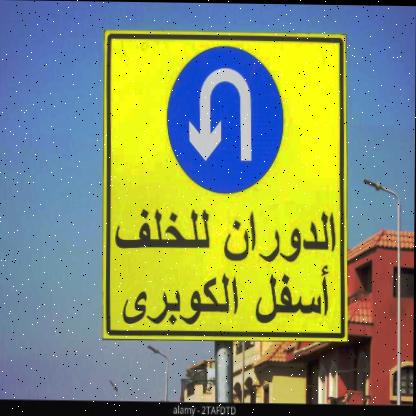U-turn: (165, 39, 287, 201)
